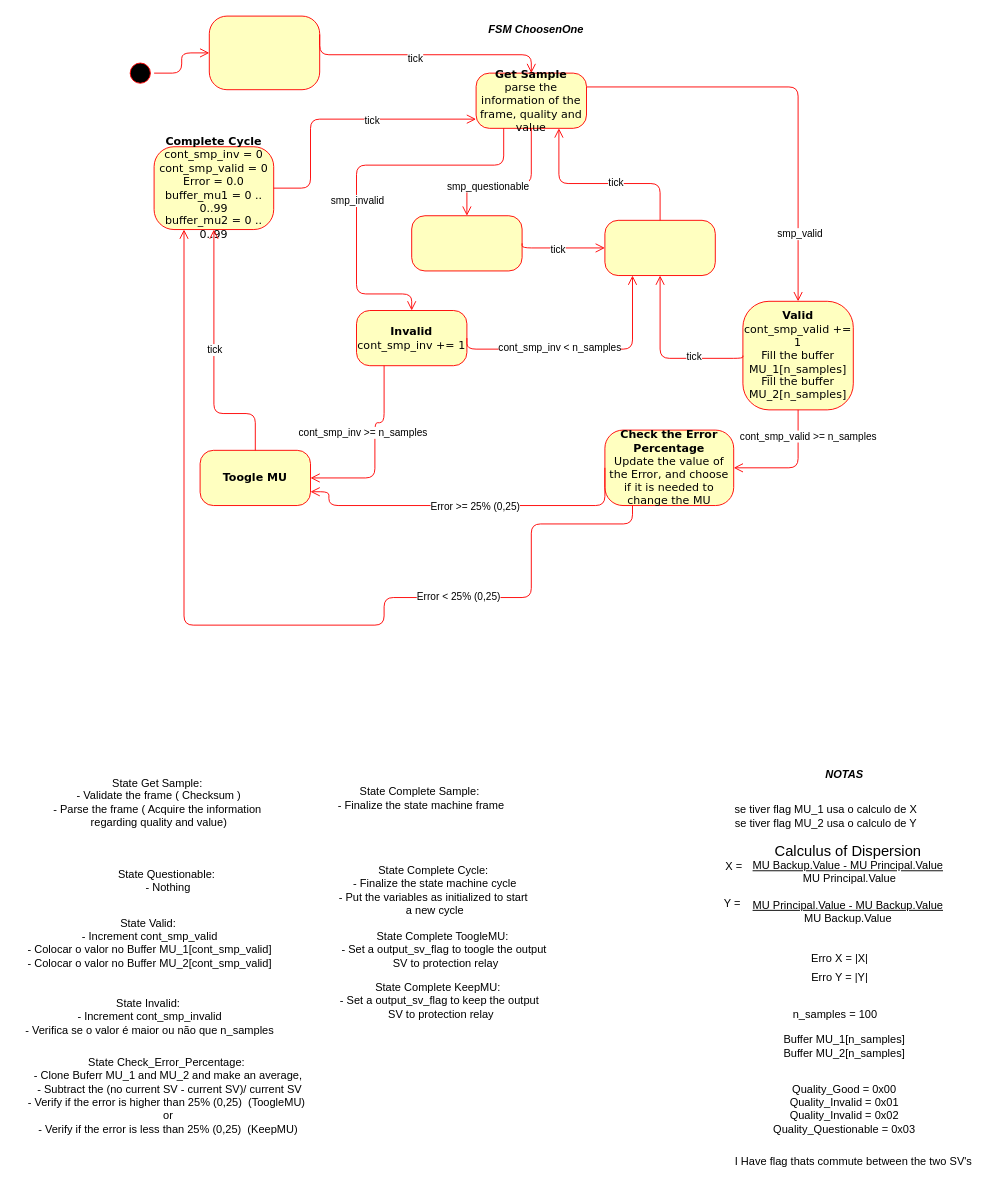
Image size: 997x1196. Some labels were removed from this diagram. Each missing label, with the box of its shape:
Complete Sample: (604, 219, 715, 276)
Initial cont_smp_inv = 0 cont_smp_valid = 0 Error = 0.0: (208, 15, 320, 90)
Questionable: (411, 215, 522, 271)
